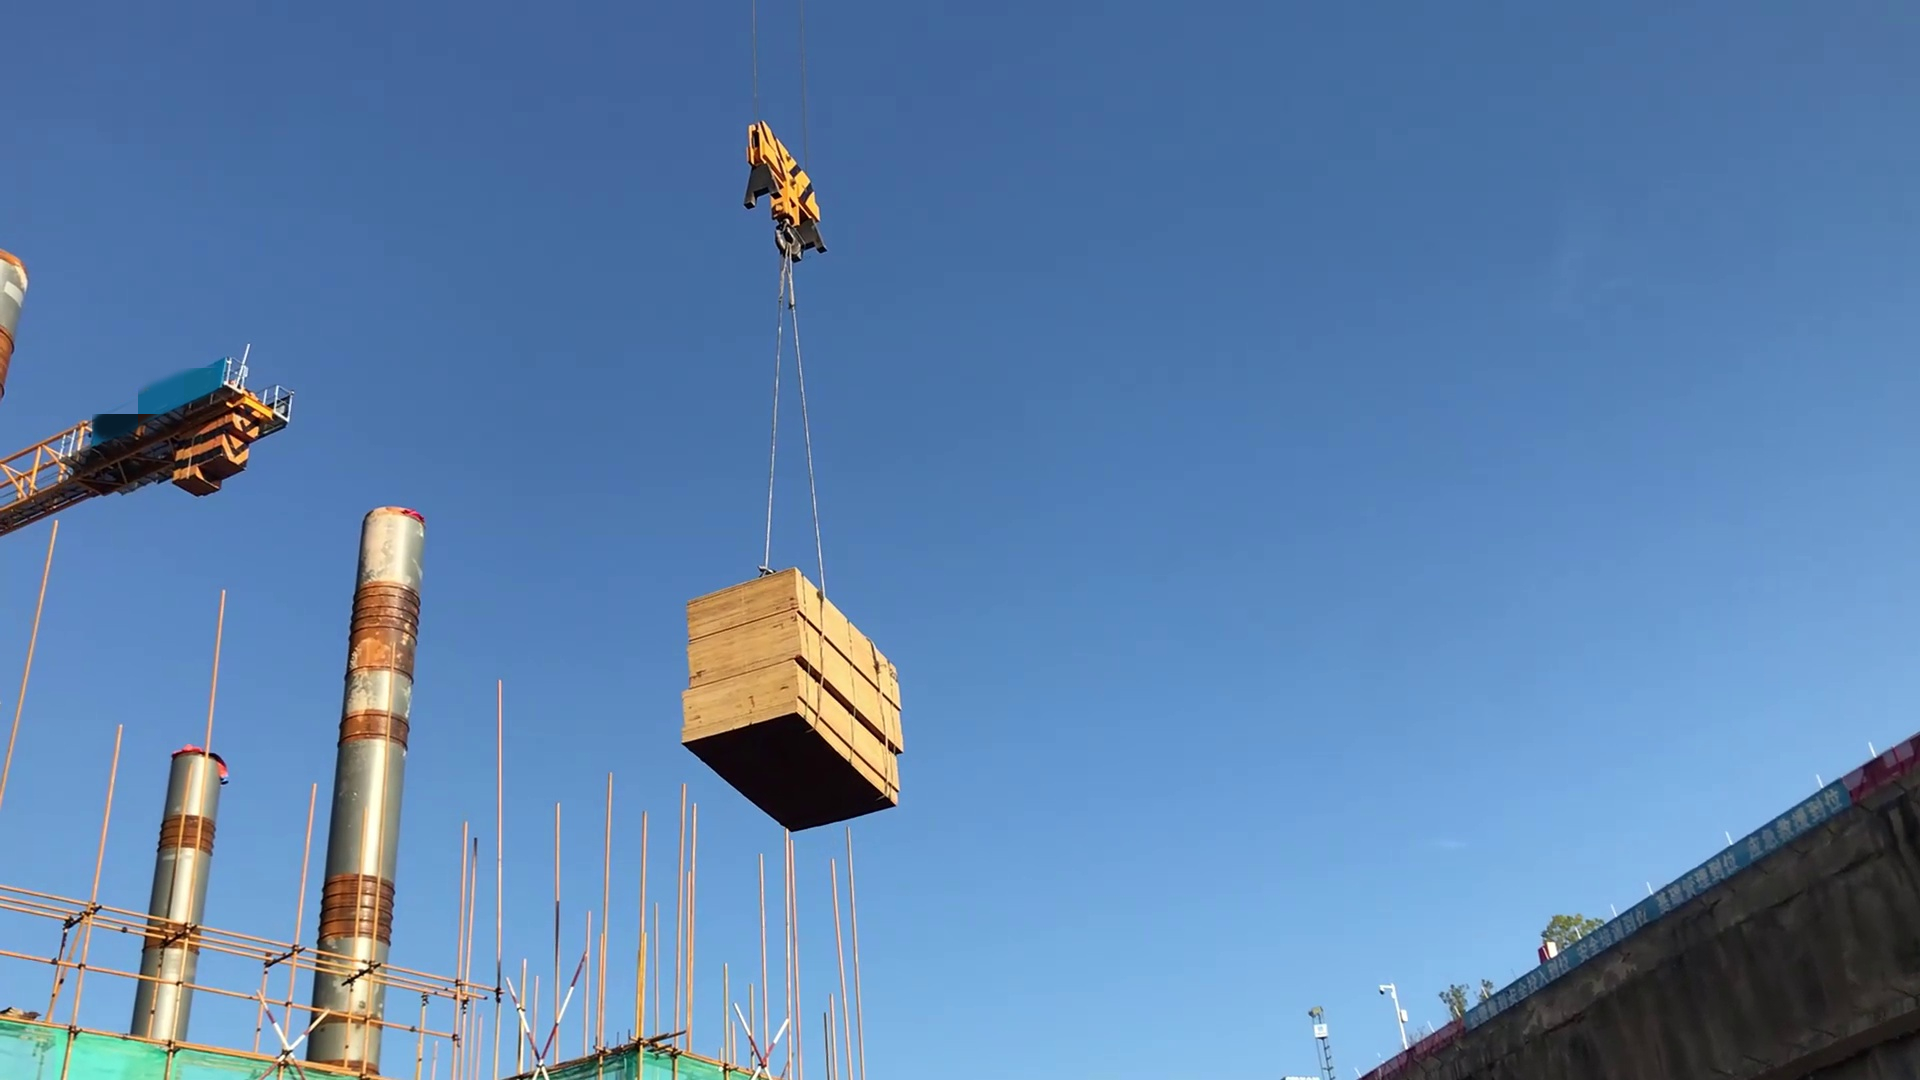board: (688, 556, 911, 865)
hook: (708, 96, 868, 363)
slogan: (1466, 762, 1847, 1034)
